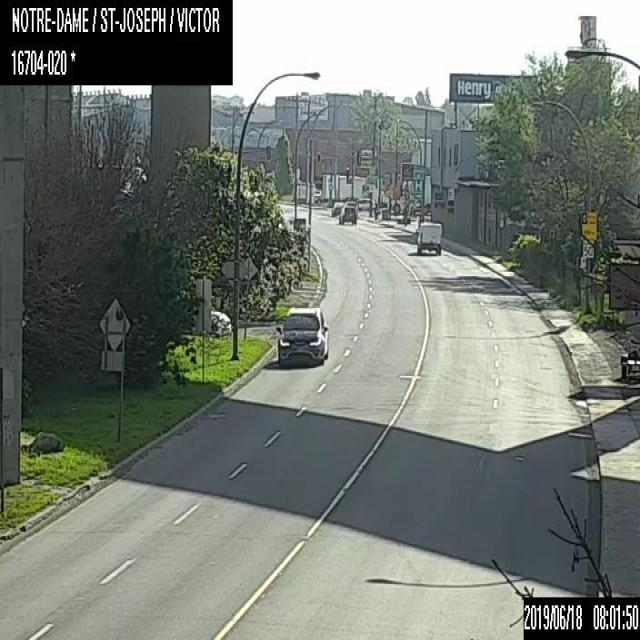construction: (608, 233, 639, 384)
vehicle: (276, 306, 328, 364), (390, 175, 430, 214), (414, 222, 440, 255), (210, 309, 231, 333), (338, 204, 356, 223), (358, 197, 374, 210), (345, 200, 357, 217), (331, 201, 343, 216)
